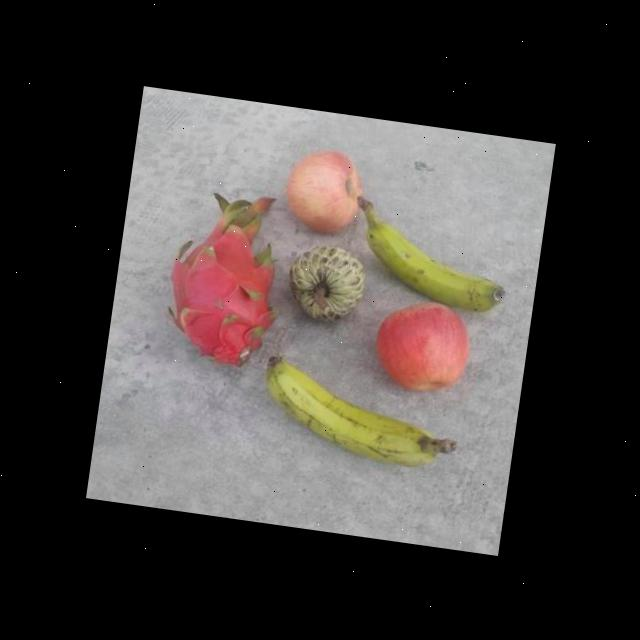Sakya fruit: (282, 238, 369, 329)
apple: (371, 294, 474, 399), (277, 143, 369, 235)
banana: (254, 352, 466, 473), (346, 195, 517, 313)
pitaya: (157, 184, 296, 370)
